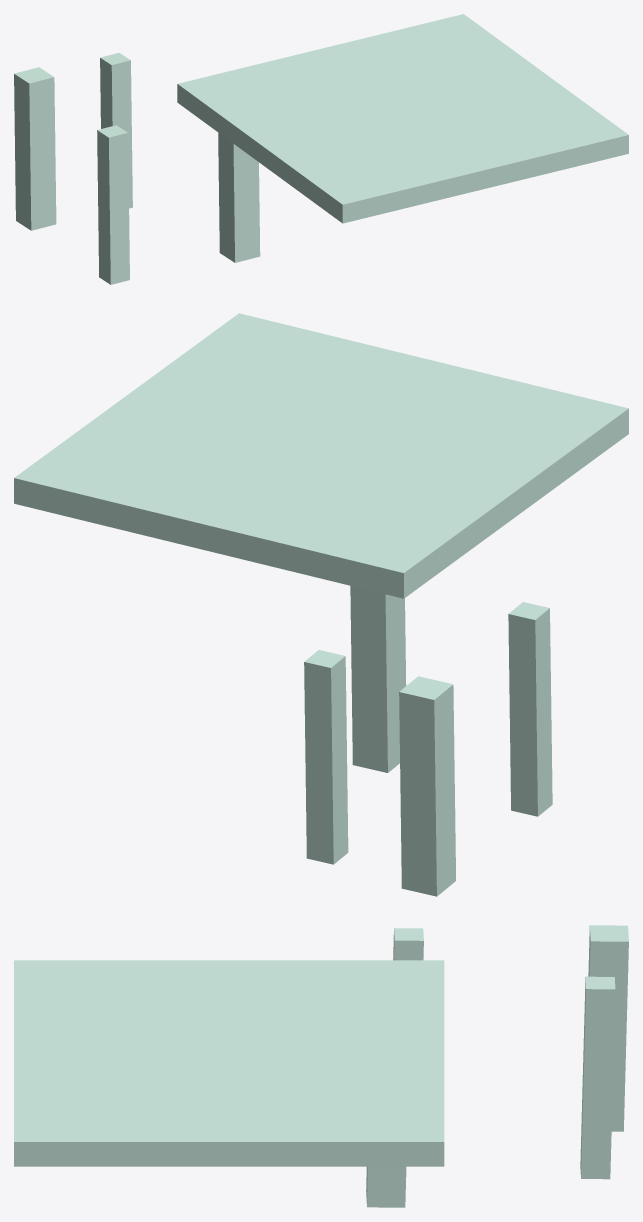
3 views of the same model, one above another, from view 1: azimuth 30°, elevation 25°; view 2: azimuth 150°, elevation 25°; view 3: azimuth 270°, elevation 25° (orthographic). The views are drawn at different scales.
Visible parts, largest first — view 1: Renderer Node; view 2: Renderer Node; view 3: Renderer Node.
Boxes of the visible parts, x1=… form: Renderer Node: x1=14, y1=14, x2=628, y2=284; Renderer Node: x1=14, y1=313, x2=628, y2=896; Renderer Node: x1=14, y1=925, x2=628, y2=1207.
Bounding box in the file's own units: 1.98 × 0.8201 × 2.13.
